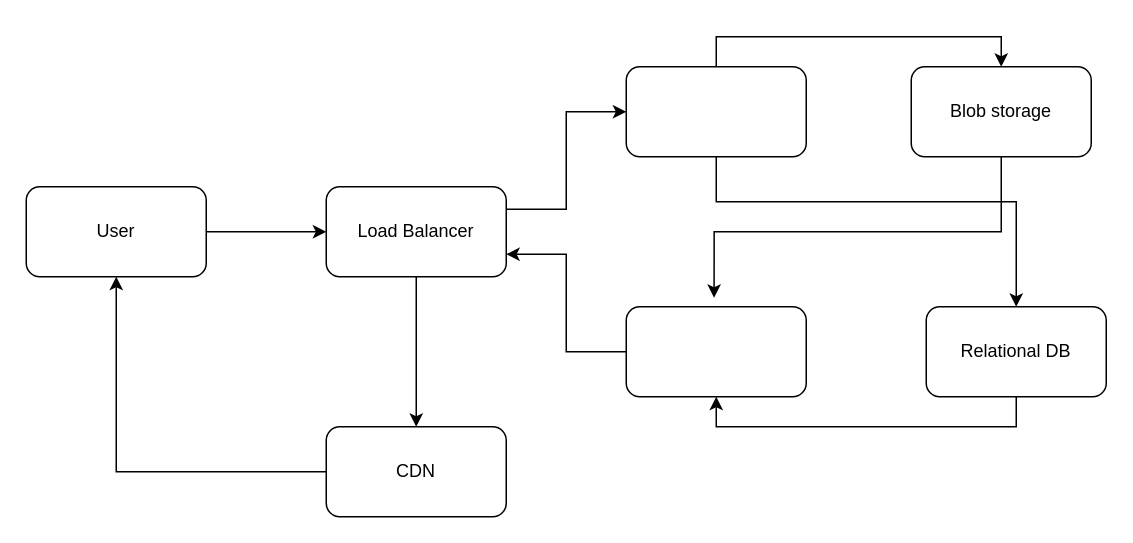
The diagram is 1133 pixels wide and 543 high, and some of its shapes have lost their labels. The centre of each missing label's shape, as x and y in pixels:
App server (Read): the point at 715,351
App server (Write): the point at 715,111
